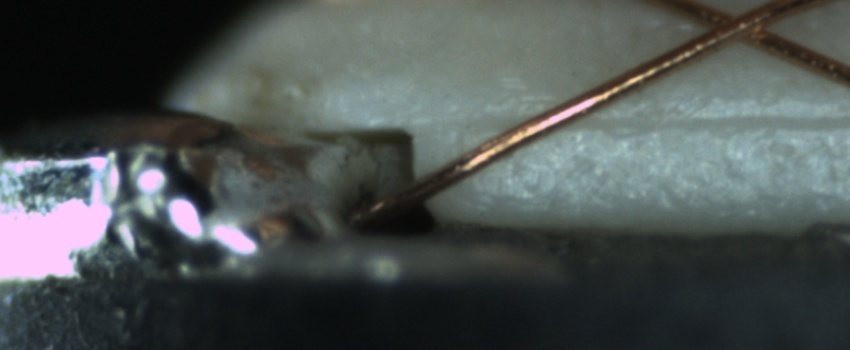CL: (688, 0, 795, 56)
DL: (455, 88, 849, 159)
